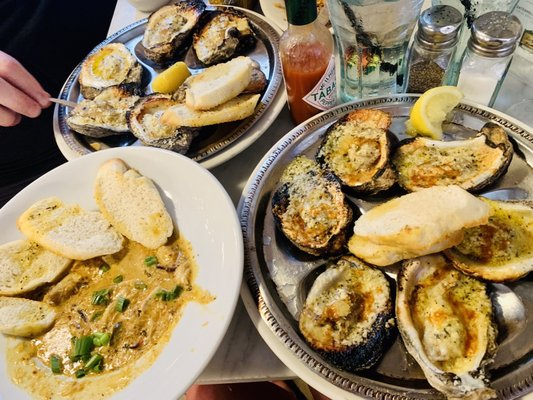pasta: (184, 56, 264, 110)
pizza: (327, 0, 425, 105)
sushi: (0, 146, 245, 400)
